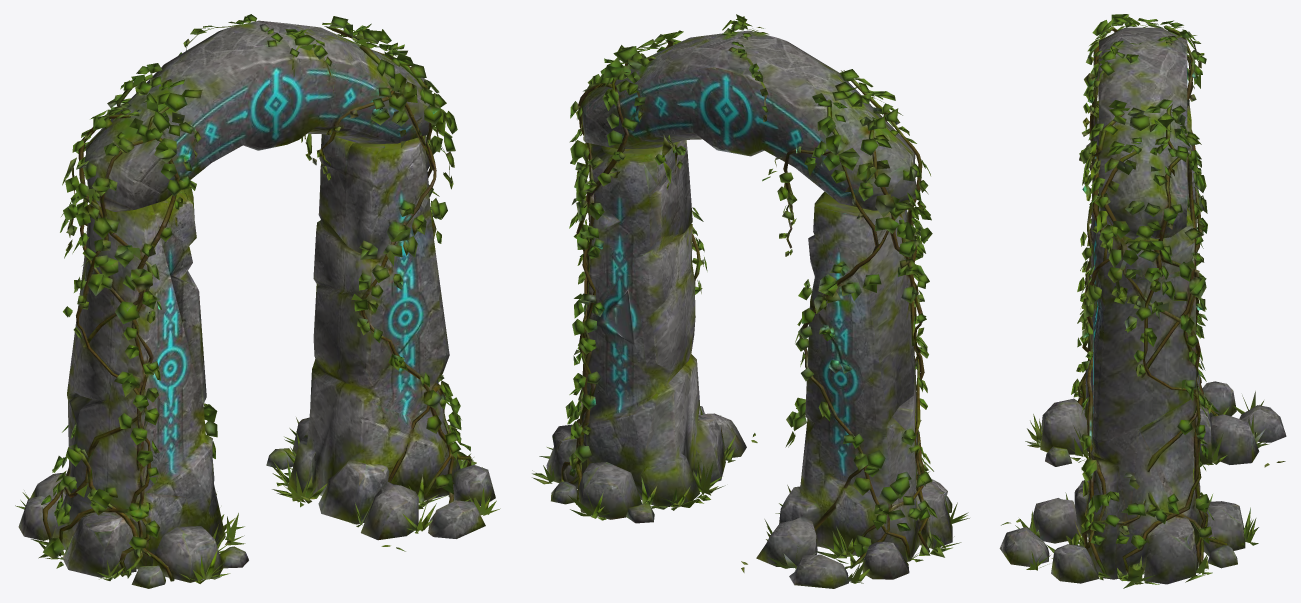
The model's file is archway.glb.
The picture shows the model from 3 angles, left to right: view 1: azimuth 30°, elevation 25°; view 2: azimuth 150°, elevation 25°; view 3: azimuth 270°, elevation 25°; orthographic projection. The views are drawn at different scales.
Size of the model in its own units: 0.8721 by 0.9536 by 0.5418.
1 material, 1 textured.
